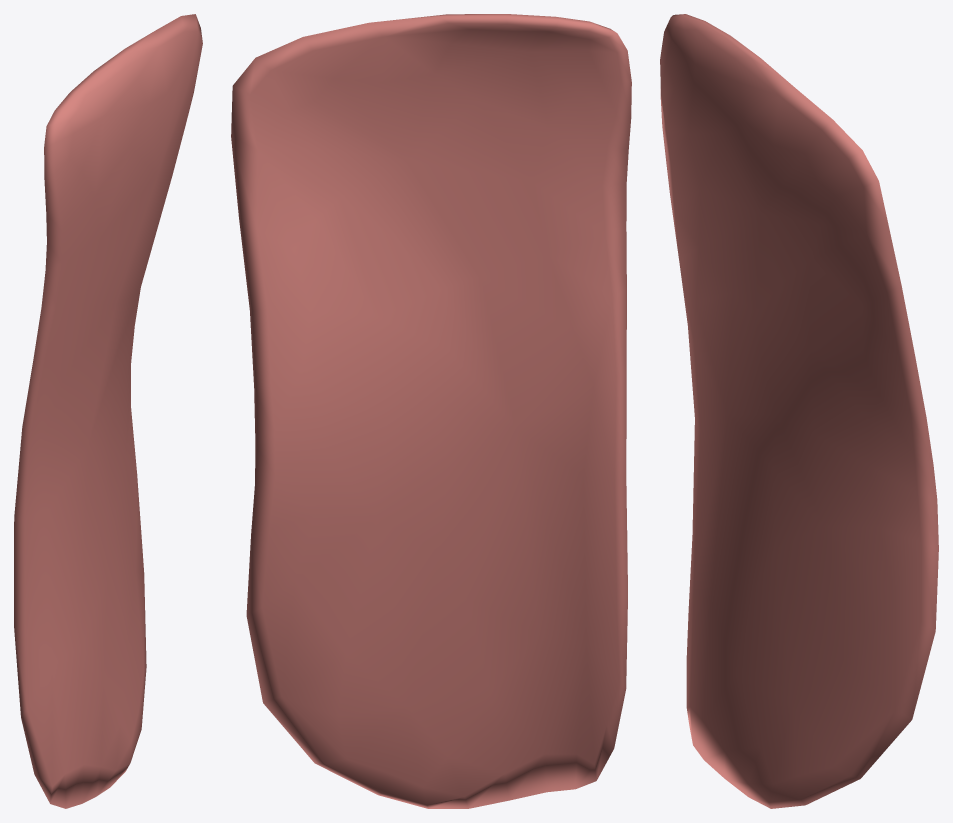
3 views of the same model, side by side, from view 1: azimuth 30°, elevation 25°; view 2: azimuth 150°, elevation 25°; view 3: azimuth 270°, elevation 25° (orthographic). The views are drawn at different scales.
Visible parts, largest first — view 1: ZA_0ed289ad3a4895e1; view 2: ZA_0ed289ad3a4895e1; view 3: ZA_0ed289ad3a4895e1.
Boxes of the visible parts, bbox=[...] form: ZA_0ed289ad3a4895e1: bbox=[14, 14, 202, 808]; ZA_0ed289ad3a4895e1: bbox=[231, 14, 631, 808]; ZA_0ed289ad3a4895e1: bbox=[660, 14, 938, 808].
Size of the model in its own units: 0.00947 by 0.0239 by 0.00808.
